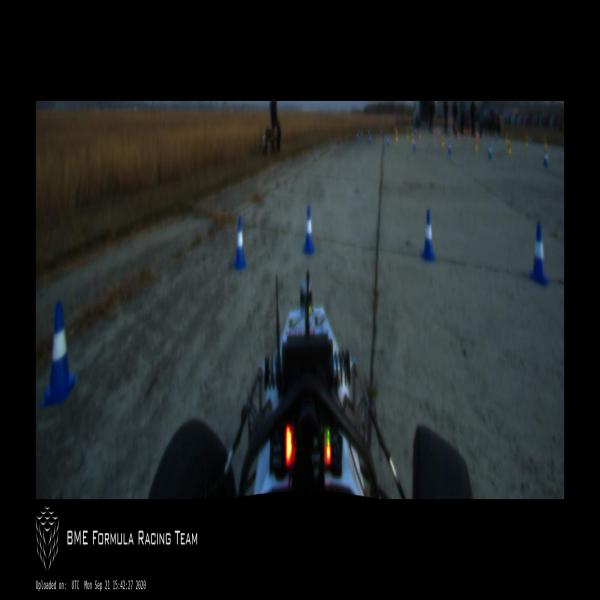blue_cone: (45, 305, 74, 405), (530, 222, 548, 284), (233, 216, 247, 269), (421, 210, 435, 261), (302, 205, 314, 252), (542, 150, 548, 168), (488, 143, 493, 158), (448, 141, 452, 154), (386, 130, 389, 145), (360, 130, 363, 142), (413, 138, 416, 150), (369, 132, 371, 144), (358, 132, 360, 142)
yellow_cone: (544, 140, 548, 156), (474, 139, 478, 152), (508, 141, 511, 158), (525, 134, 528, 148), (395, 129, 398, 143), (442, 134, 444, 148), (407, 128, 409, 140), (412, 133, 414, 144), (419, 129, 421, 140)
